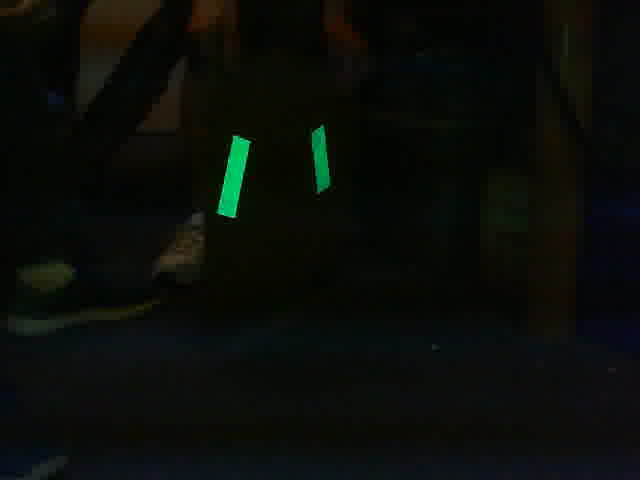target: (215, 124, 333, 220)
